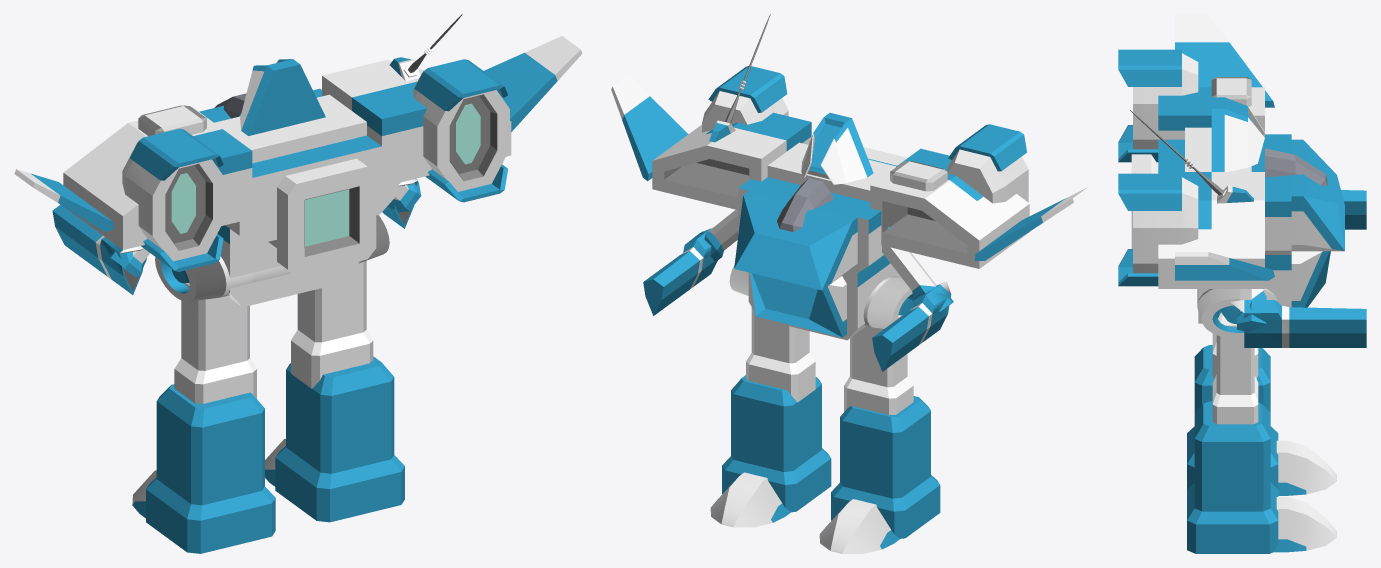
Rendered from Boss_Robot.fbx.
The picture shows the model from 3 angles, left to right: view 1: azimuth 30°, elevation 25°; view 2: azimuth 150°, elevation 25°; view 3: azimuth 270°, elevation 25°; orthographic projection. The views are drawn at different scales.
Parts seen in each view (by area): view 1: mechaA3B.model.merged; view 2: mechaA3B.model.merged; view 3: mechaA3B.model.merged.
Boxes of the visible parts, x1,y1,x2,y2 form: mechaA3B.model.merged: (14,14,582,553); mechaA3B.model.merged: (611,14,1089,553); mechaA3B.model.merged: (1118,14,1366,553).
Bounding box in the file's own units: 425 × 375 × 186.
